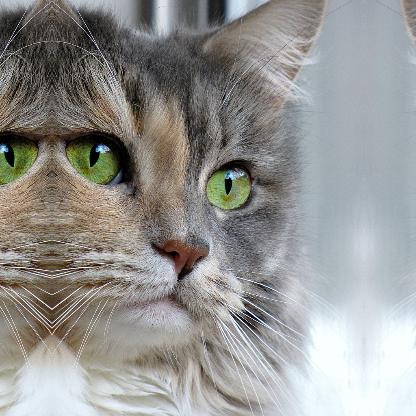Cat: (52, 0, 348, 414)
